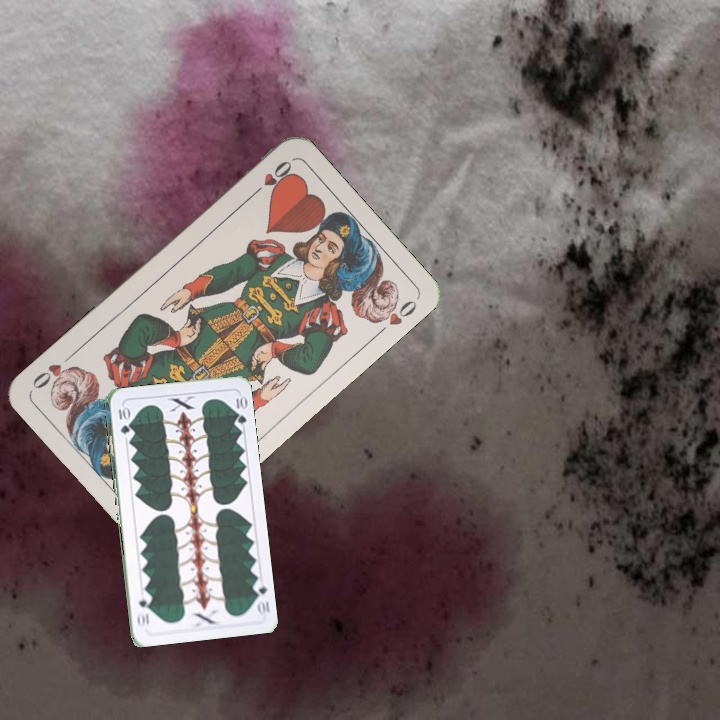G10: (249, 576, 272, 617), (114, 402, 130, 437)
HO: (246, 156, 295, 200)
